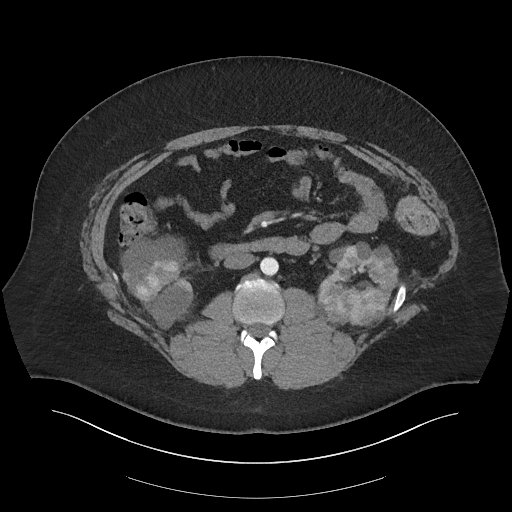Lesion: (134, 275, 160, 300)
